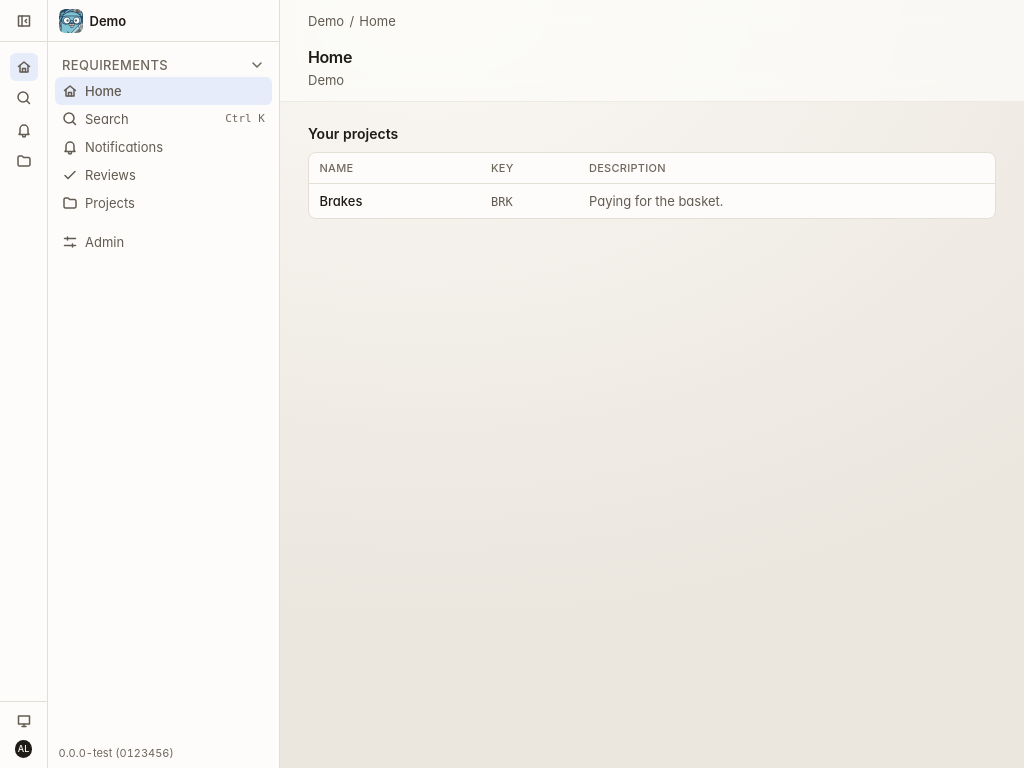
the palette's groups › reads each kind out as a group of its own, the projects and actions among them
Type keys "{Control>}k{/Control}"
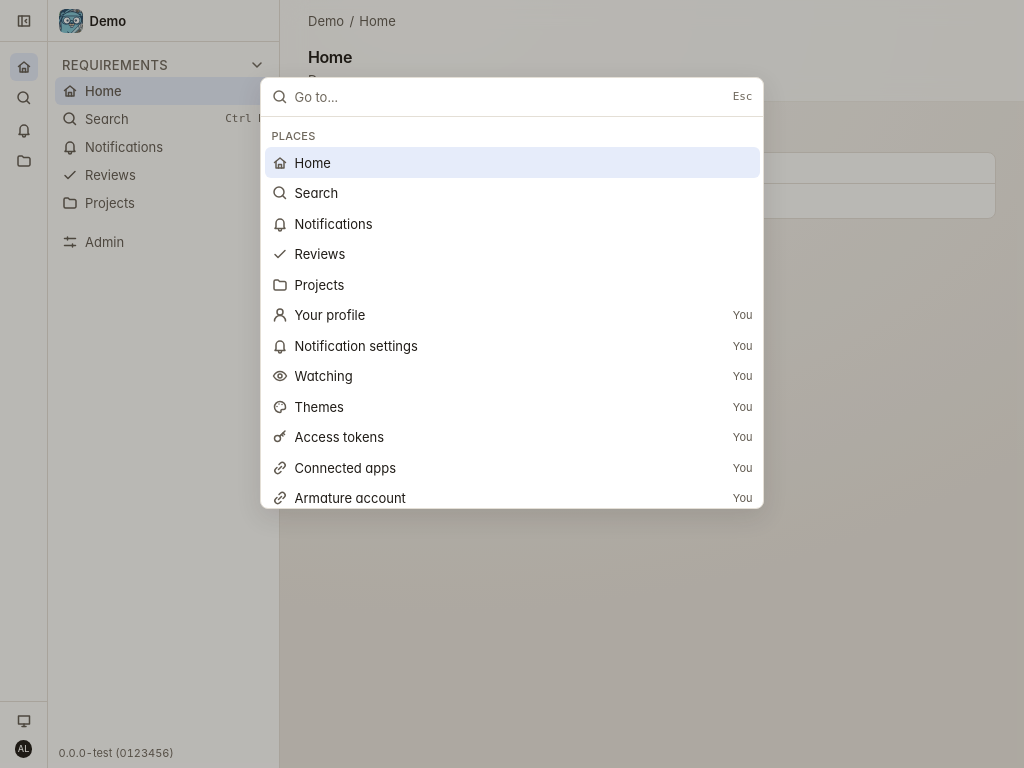
Type "br" into the dropdown at [510, 97], box [294,78,726,116]
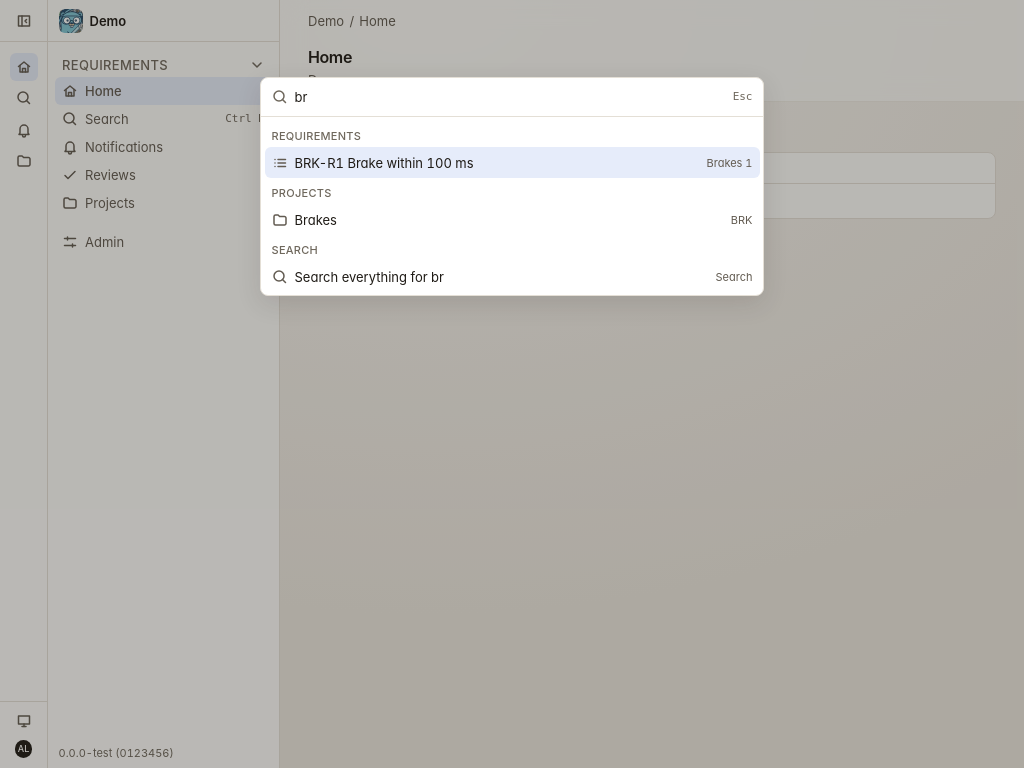
Check: the option "BRK-R1 Brake within 100 ms Brakes 1" is shown, box [264,147,760,178]
Check: the option "Brakes BRK" is shown, box [272,212,752,228]
